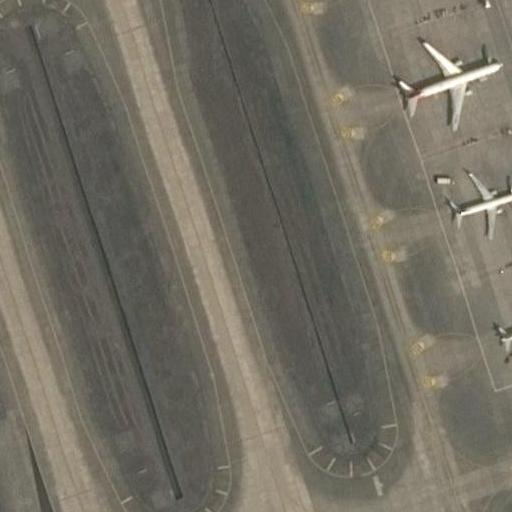Aircraft: (386, 32, 504, 126), (441, 162, 512, 238), (495, 298, 512, 358)
